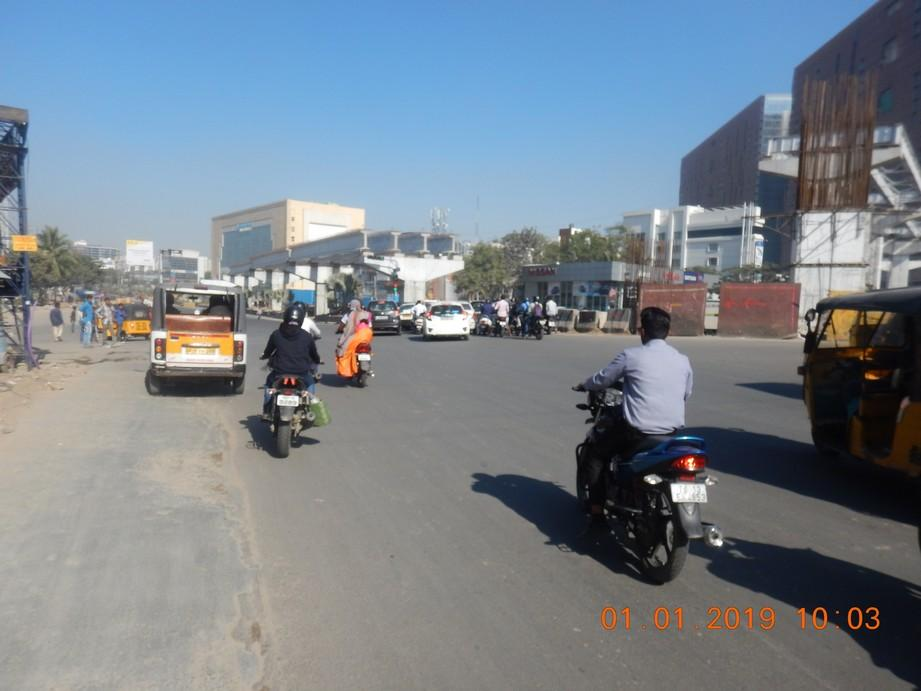plate: (670, 481, 709, 503), (277, 393, 299, 407)
